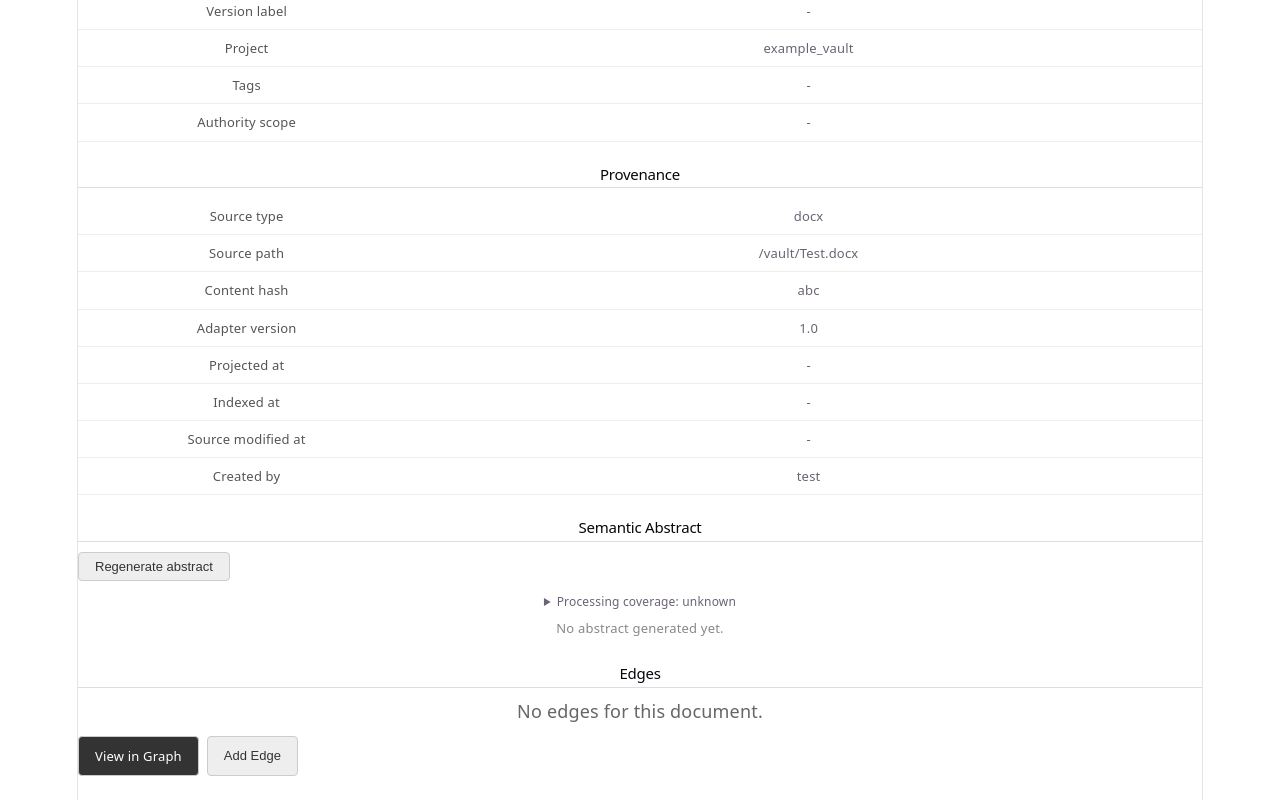
Test: DocumentDetail: Regenerate abstract › kicks off re-abstraction and refreshes the displayed abstract on completion
(page scrolled)
Expected: the text "No abstract generated yet." is shown, [556,619,724,637]
Click the button "Regenerate abstract" at (154,566), box [78,552,230,581]
(page scrolled)
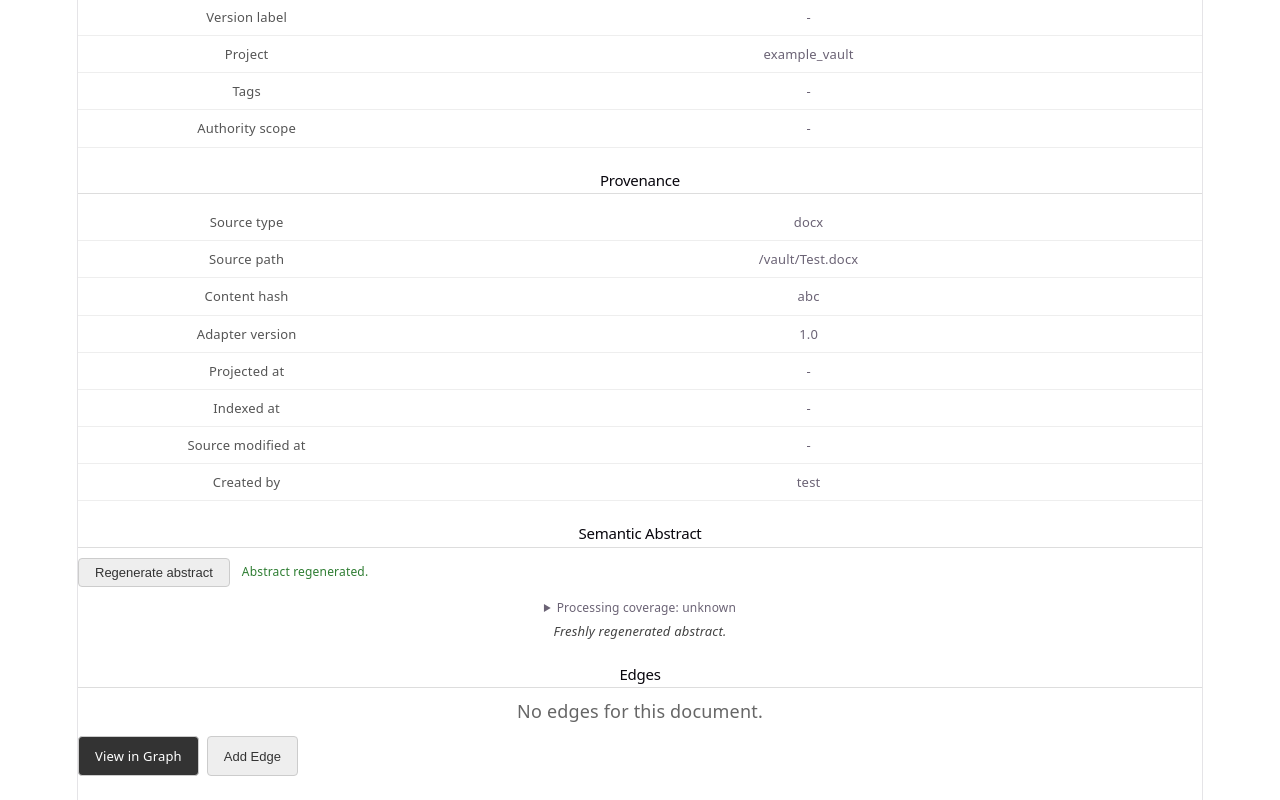
Expected: the text "Freshly regenerated abstract." is shown, [554,622,726,640]
